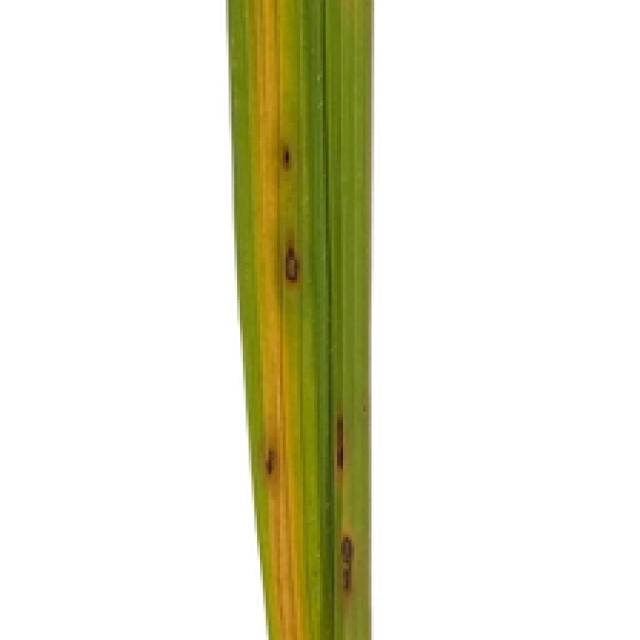Rice___Rice_Blast: (221, 0, 376, 637)
